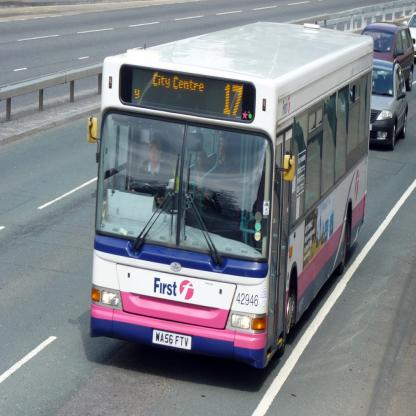Car: (369, 58, 409, 157), (364, 20, 415, 91), (408, 16, 416, 70)
